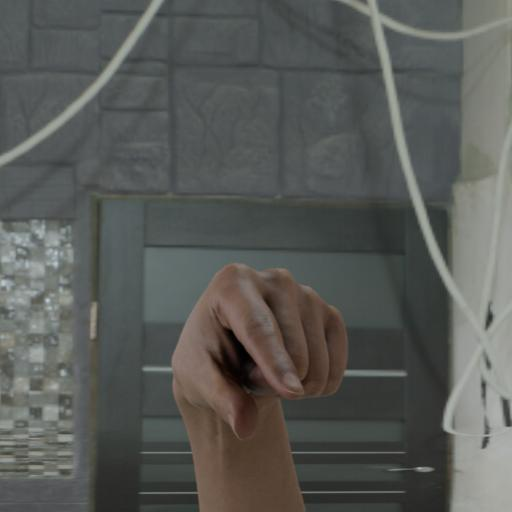Q: (161, 252, 360, 452)
